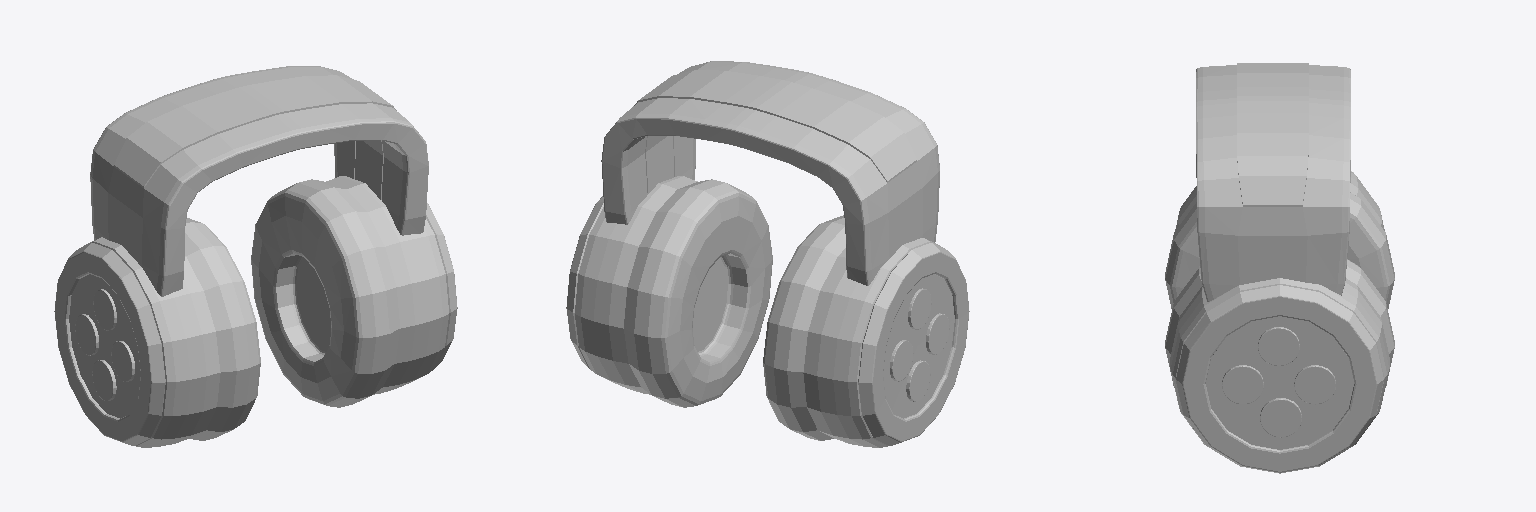
The model's file is HeadPhone.obj.
3 renders of one model, left to right at view 1: azimuth 30°, elevation 25°; view 2: azimuth 150°, elevation 25°; view 3: azimuth 270°, elevation 25°, orthographic.
Parts seen in each view (by area): view 1: HeadPhone.001_Mesh.027; view 2: HeadPhone.001_Mesh.027; view 3: HeadPhone.001_Mesh.027.
Boxes of the visible parts, <box> form: HeadPhone.001_Mesh.027: <box>54,66,457,447</box>; HeadPhone.001_Mesh.027: <box>566,61,969,447</box>; HeadPhone.001_Mesh.027: <box>1165,63,1394,473</box>.
Size of the model in its own units: 19.94 by 19.64 by 12.87.